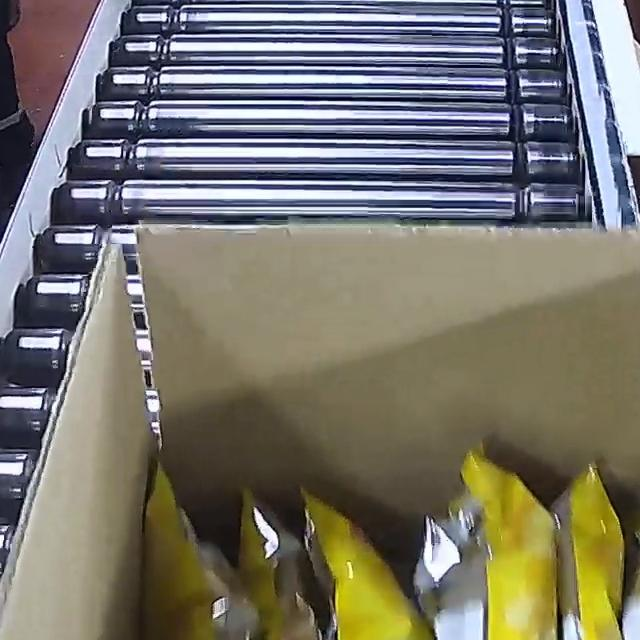salted: (125, 462, 640, 640)
